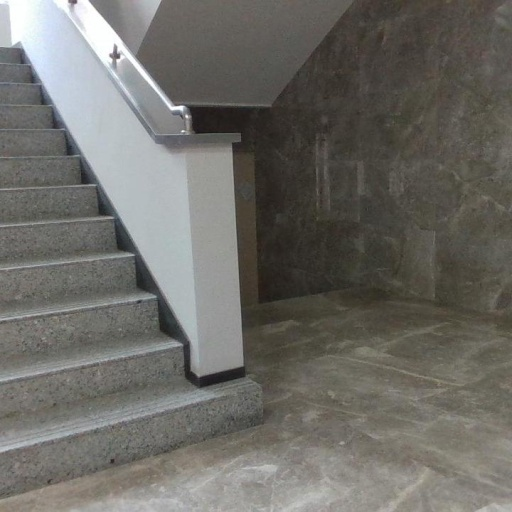Stairs: (0, 48, 262, 494)
